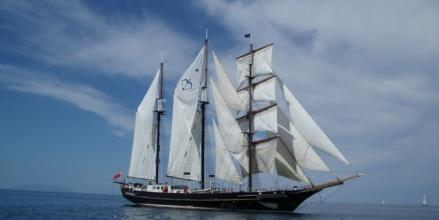fanchuan: (113, 31, 367, 209)
